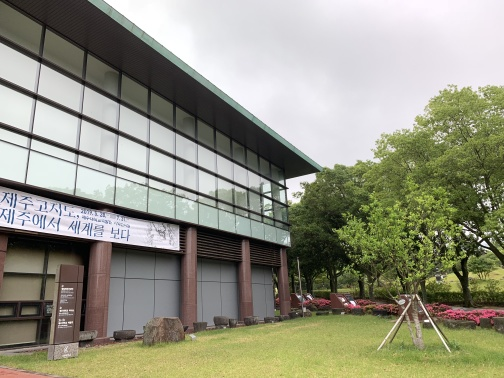Museum: (3, 3, 325, 344)
